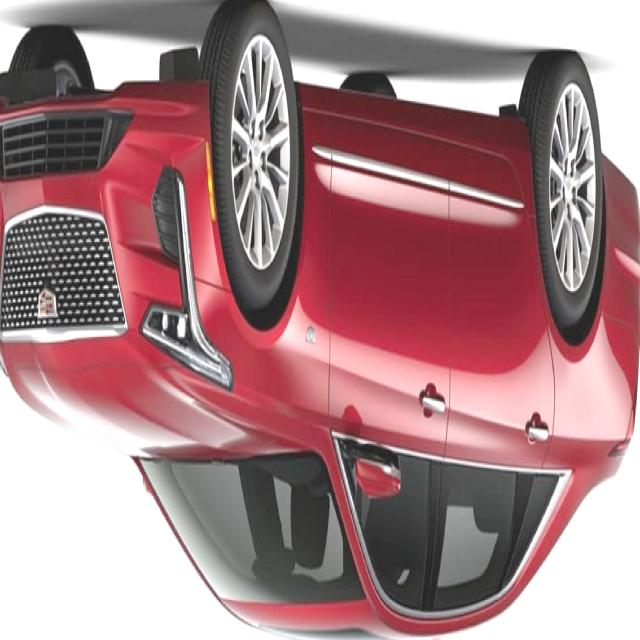red: (0, 69, 640, 613)
